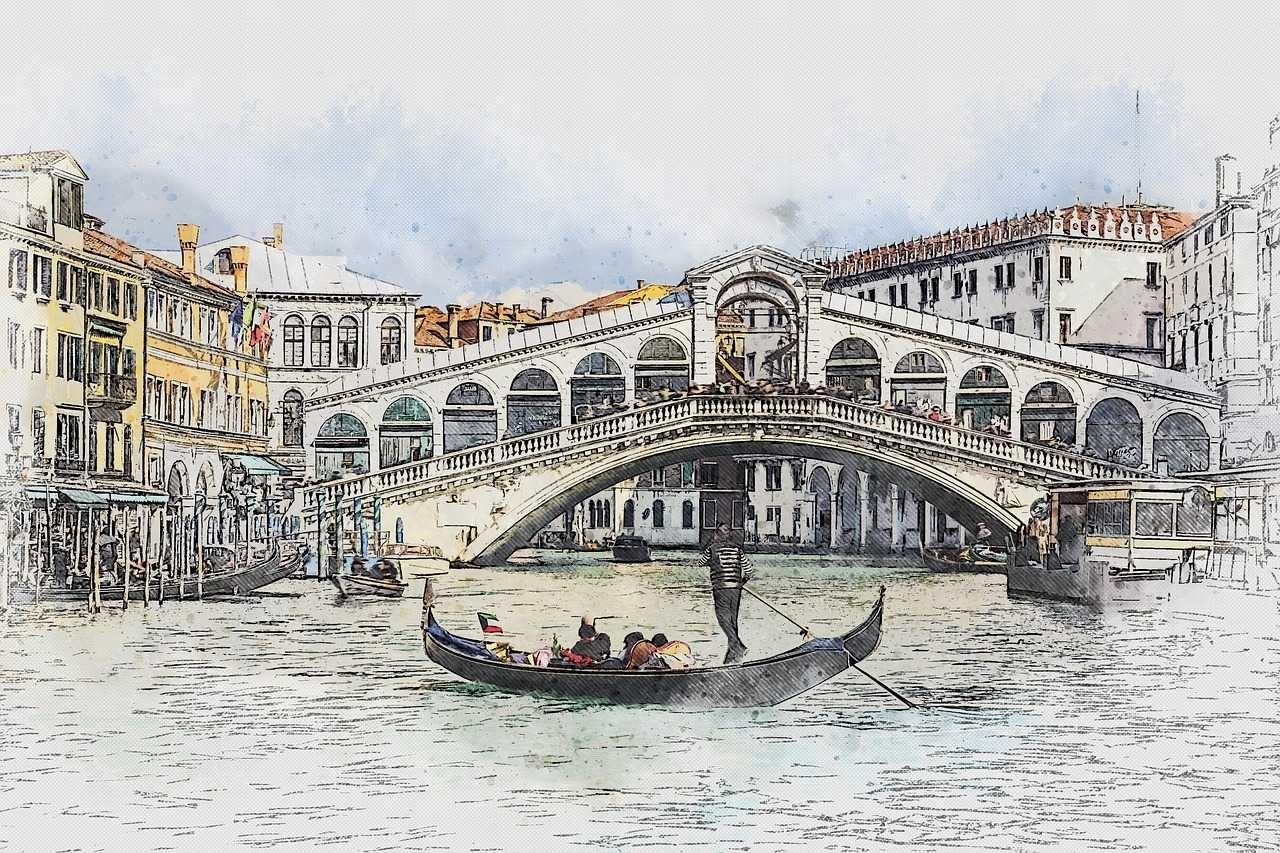kayak: (421, 579, 886, 708), (1005, 480, 1230, 605), (153, 543, 301, 600), (922, 541, 1010, 574), (328, 568, 407, 599), (611, 532, 653, 561)
